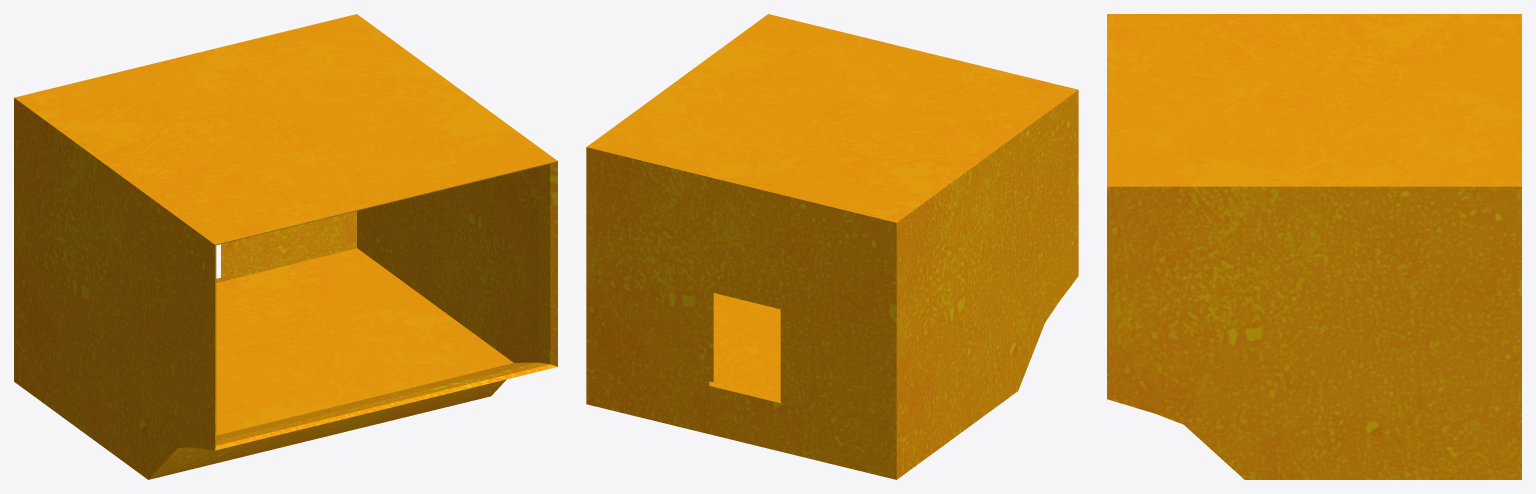
Rendered from FacilityObservatory_01_SM_Low.fbx.
3 views of the same model, side by side, from view 1: azimuth 30°, elevation 25°; view 2: azimuth 150°, elevation 25°; view 3: azimuth 270°, elevation 25° (orthographic). The views are drawn at different scales.
Visible parts, largest first — view 1: facility_observatory_geo; view 2: facility_observatory_geo; view 3: facility_observatory_geo.
Boxes of the visible parts, left/top/right/bottom form: facility_observatory_geo: left=14, top=14, right=557, bottom=479; facility_observatory_geo: left=586, top=14, right=1078, bottom=479; facility_observatory_geo: left=1107, top=14, right=1521, bottom=479.
Size of the model in its own units: 825 by 653 by 838.
2 materials, 2 textured.
